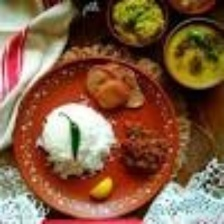rice: (37, 103, 115, 178)
